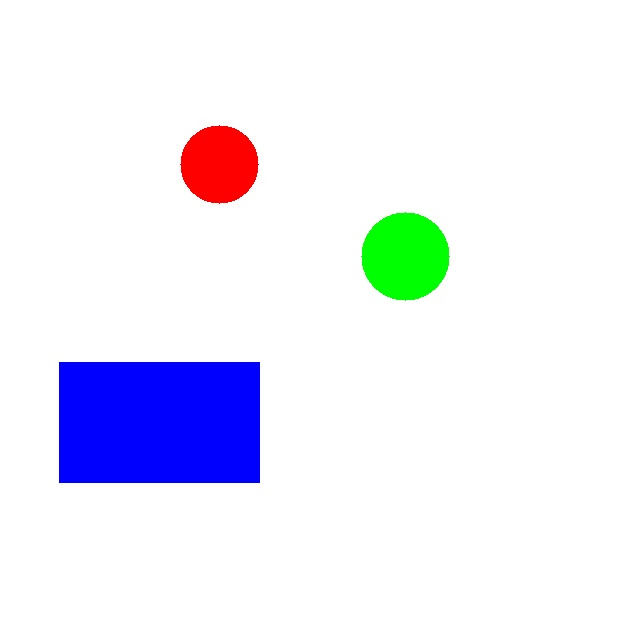cartao: (59, 362, 259, 482)
rosca_externa: (361, 212, 449, 300)
rosca_interna: (180, 125, 258, 203)
